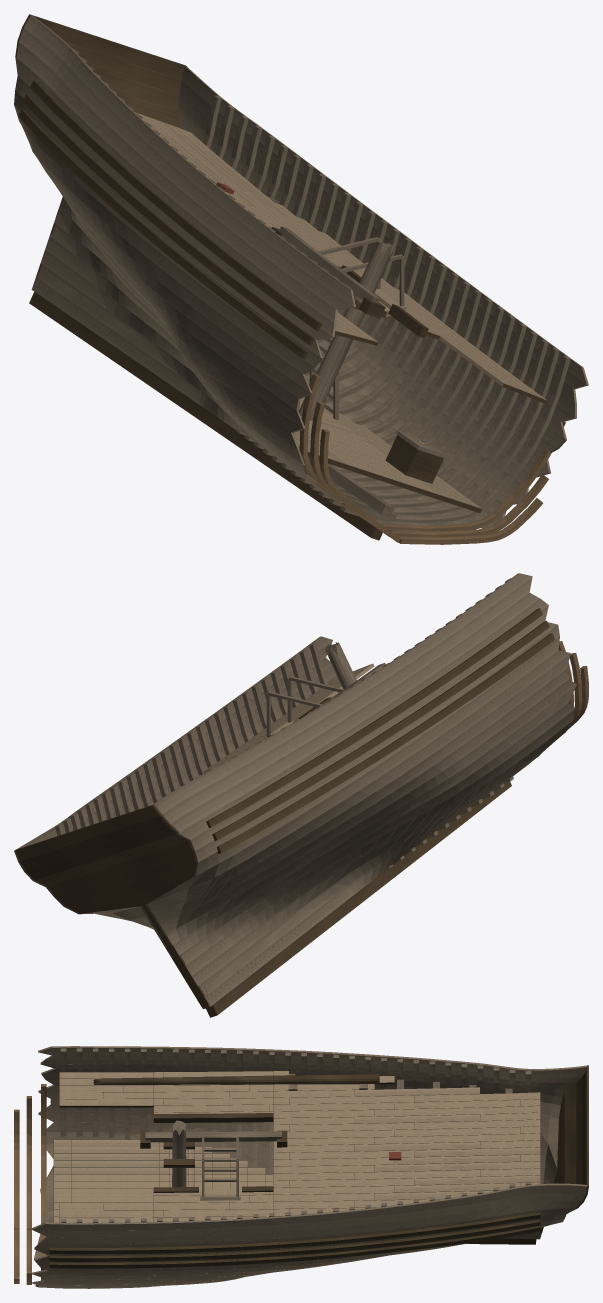
The model's file is ship_lod1.glb.
3 views of the same model, one above another, from view 1: azimuth 30°, elevation 25°; view 2: azimuth 150°, elevation 25°; view 3: azimuth 270°, elevation 25° (orthographic). The views are drawn at different scales.
Parts seen in each view (by area): view 1: lod1_hull_strake_starboard_17, lod1_hull_strake_starboard_16, lod1_hull_strake_starboard_15, lod1_fractured_keel, lod1_hull_strake_starboard_10, lod1_hull_strake_port_17, lod1_hull_strake_starboard_09, lod1_wale_s_0, lod1_wale_s_1, lod1_wale_s_2, lod1_hull_strake_starboard_00, lod1_hull_strake_starboard_08 (+53 smaller); view 2: lod1_hull_strake_starboard_17, lod1_hull_strake_starboard_16, lod1_hull_strake_starboard_15, lod1_hull_strake_starboard_09, lod1_hull_strake_starboard_10, lod1_hull_strake_starboard_08, lod1_hull_strake_starboard_07, lod1_hull_strake_starboard_06, lod1_hull_strake_starboard_05, lod1_hull_strake_starboard_04, lod1_hull_strake_starboard_03, lod1_fractured_keel (+24 smaller); view 3: lod1_hull_strake_port_17, lod1_hull_strake_port_16, lod1_hull_strake_port_15, lod1_wale_p_0, lod1_wale_p_1, lod1_wale_p_2, lod1_hull_strake_starboard_17, lod1_fallen_yard, lod1_hull_strake_port_14, lod1_hull_strake_starboard_14, lod1_hull_strake_starboard_13, lod1_hull_strake_starboard_15 (+97 smaller).
Boxes of the visible parts, x1,y1,x2,y2 form: lod1_hull_strake_starboard_17: (24, 15, 355, 307); lod1_hull_strake_starboard_16: (19, 28, 355, 309); lod1_hull_strake_starboard_15: (16, 42, 337, 323); lod1_fractured_keel: (29, 292, 382, 540); lod1_hull_strake_starboard_10: (22, 127, 314, 373); lod1_hull_strake_port_17: (182, 66, 588, 384); lod1_hull_strake_starboard_09: (36, 156, 312, 393); lod1_wale_s_0: (30, 80, 322, 330); lod1_wale_s_1: (23, 94, 314, 345); lod1_wale_s_2: (18, 109, 307, 359); lod1_hull_strake_starboard_00: (32, 276, 345, 505); lod1_hull_strake_starboard_08: (51, 179, 312, 398); lod1_hull_strake_starboard_17: (152, 573, 532, 815); lod1_hull_strake_starboard_16: (160, 576, 532, 825); lod1_hull_strake_starboard_15: (168, 592, 539, 833); lod1_hull_strake_starboard_09: (146, 650, 570, 914); lod1_hull_strake_starboard_10: (146, 636, 559, 904); lod1_hull_strake_starboard_08: (152, 653, 570, 924); lod1_hull_strake_starboard_07: (159, 669, 568, 935); lod1_hull_strake_starboard_06: (165, 679, 576, 945); lod1_hull_strake_starboard_05: (173, 685, 576, 955); lod1_hull_strake_starboard_04: (180, 703, 573, 965); lod1_hull_strake_starboard_03: (185, 710, 574, 975); lod1_fractured_keel: (206, 781, 511, 1017); lod1_hull_strake_port_17: (32, 1183, 586, 1230); lod1_hull_strake_port_16: (33, 1193, 585, 1237); lod1_hull_strake_port_15: (40, 1201, 581, 1244); lod1_wale_p_0: (49, 1212, 540, 1254); lod1_wale_p_1: (49, 1220, 540, 1261); lod1_wale_p_2: (49, 1225, 540, 1268); lod1_hull_strake_starboard_17: (38, 1046, 586, 1074); lod1_fallen_yard: (93, 1074, 379, 1084); lod1_hull_strake_port_14: (34, 1208, 577, 1249); lod1_hull_strake_starboard_14: (40, 1059, 575, 1089); lod1_hull_strake_starboard_13: (41, 1064, 564, 1096); lod1_hull_strake_starboard_15: (46, 1055, 581, 1082).
Bounding box in the file's own units: 6.21 × 5.46 × 14.65.
9 materials, 4 textured.
